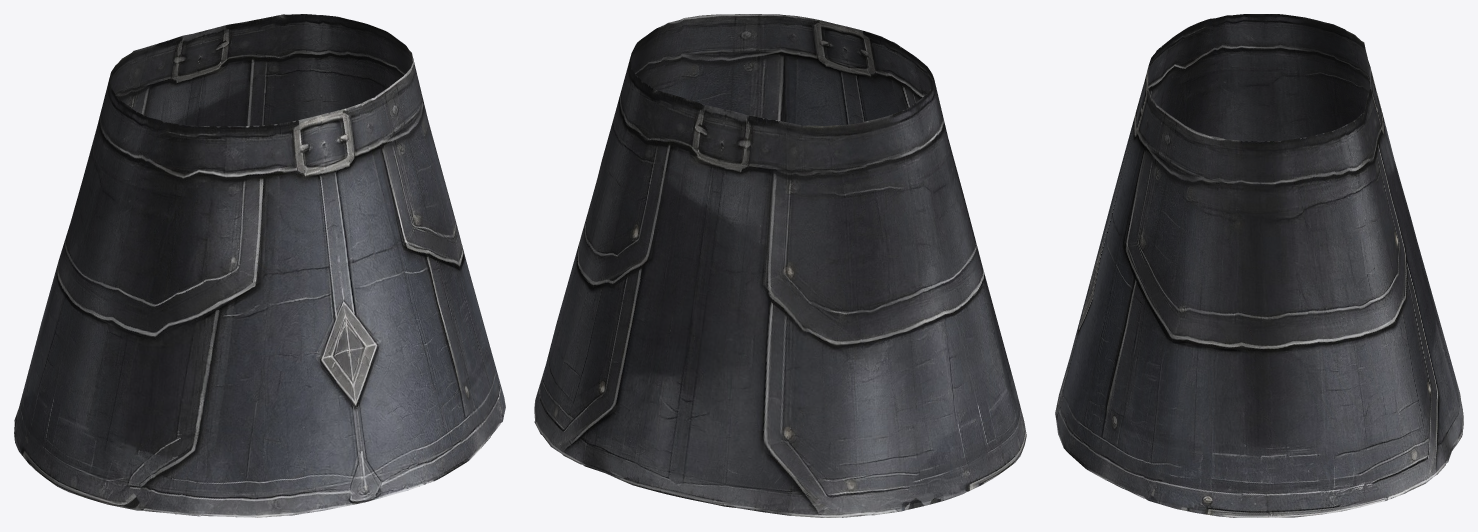
File: IronPlateskirt.glb
3 views of the same model, side by side, from view 1: azimuth 30°, elevation 25°; view 2: azimuth 150°, elevation 25°; view 3: azimuth 270°, elevation 25° (orthographic). The views are drawn at different scales.
Bounding box in the file's own units: 2 × 1.53 × 1.68.
1 material, 1 textured.
